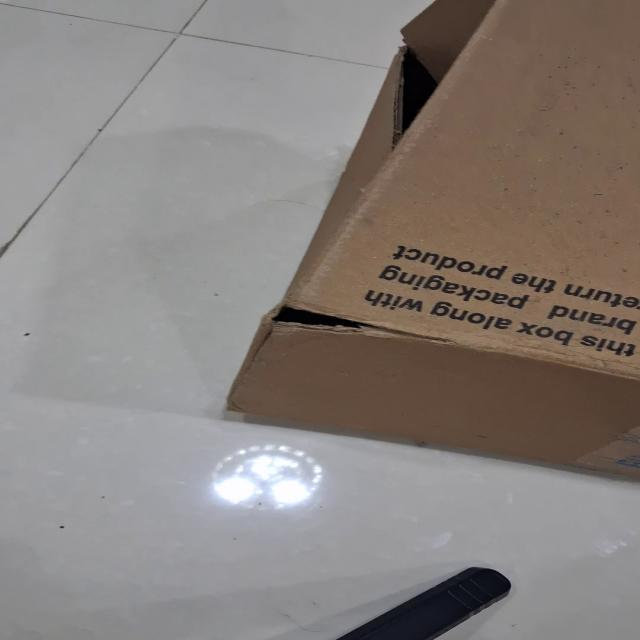paper: (2, 0, 638, 639), (223, 1, 639, 479)
